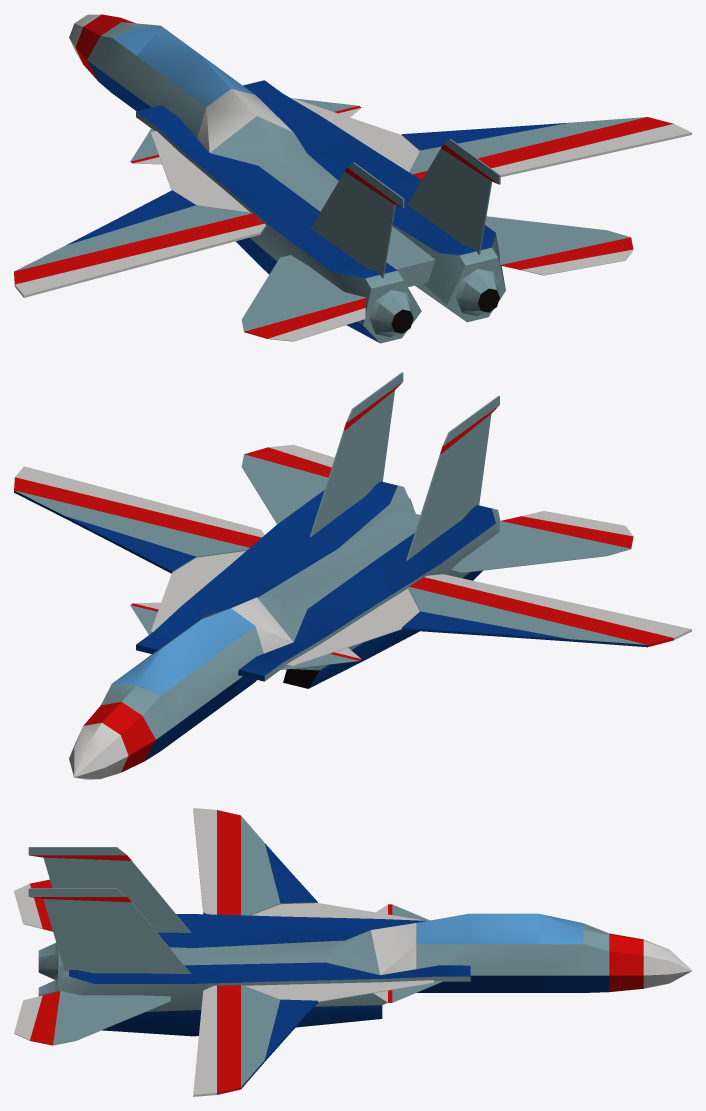
Rendered from astronave.fbx.
The picture shows the model from 3 angles, top to bottom: view 1: azimuth 30°, elevation 25°; view 2: azimuth 150°, elevation 25°; view 3: azimuth 270°, elevation 25°; orthographic projection. The views are drawn at different scales.
Parts seen in each view (by area): view 1: Mesh; view 2: Mesh; view 3: Mesh.
Boxes of the visible parts, <box> form: Mesh: <box>14,14,691,343</box>; Mesh: <box>14,372,691,779</box>; Mesh: <box>14,808,691,1096</box>.
Size of the model in its own units: 235 by 52.89 by 234.
